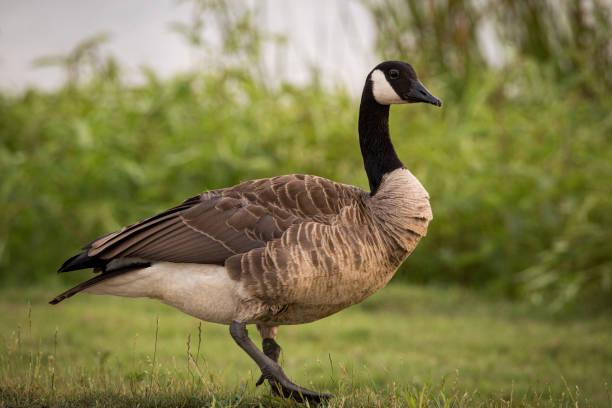Canadian-Goose: (47, 58, 445, 401)
